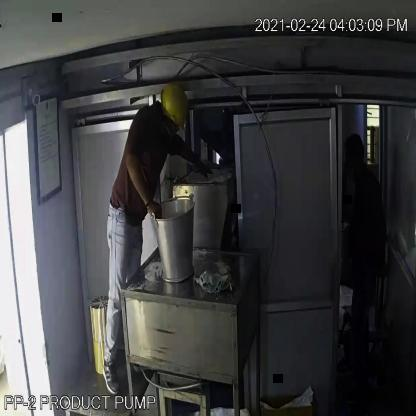helmet: (159, 79, 195, 134)
